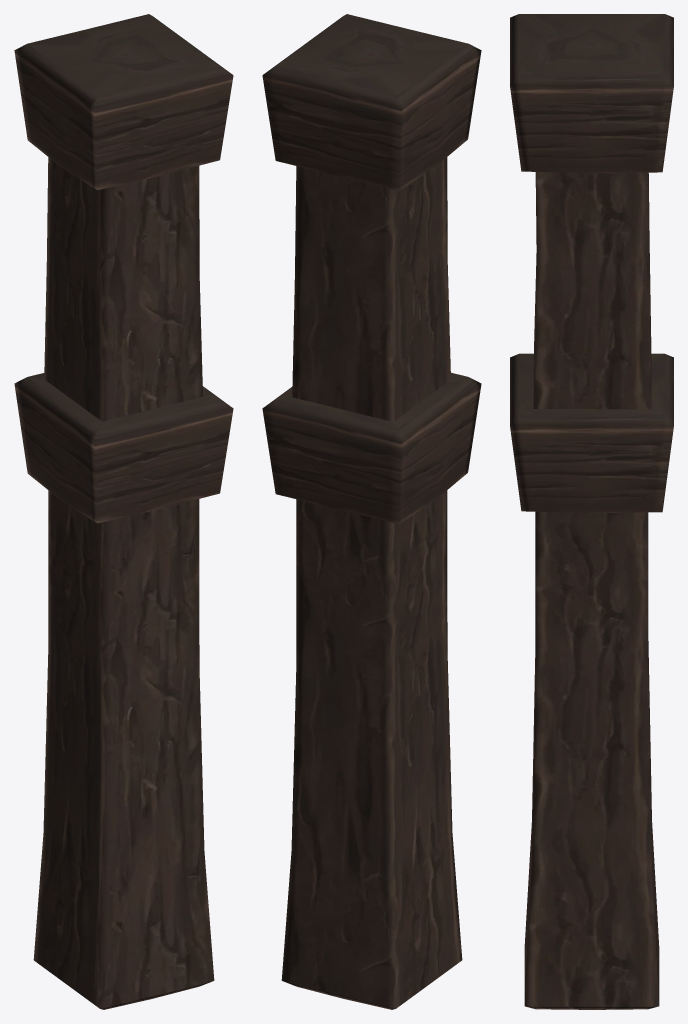
3 views of the same model, side by side, from view 1: azimuth 30°, elevation 25°; view 2: azimuth 150°, elevation 25°; view 3: azimuth 270°, elevation 25° (orthographic).
Size of the model in its own units: 1.74 by 11.08 by 1.75.
2 materials, 2 textured.
